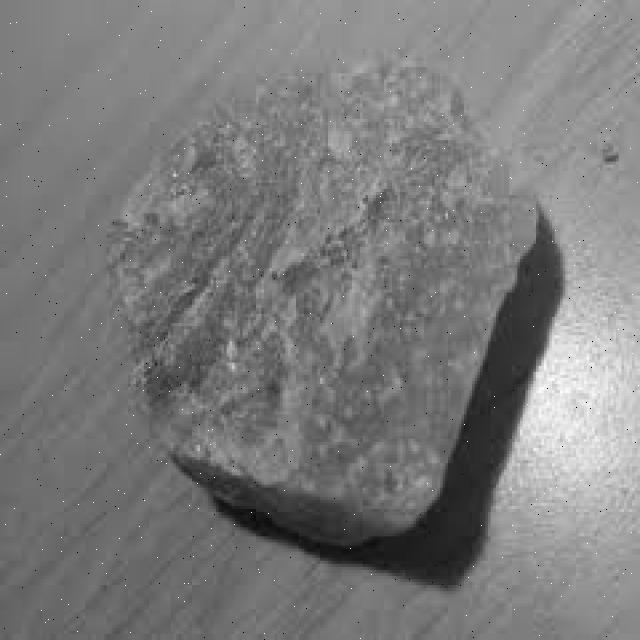Metamorphic: (110, 39, 534, 554)
